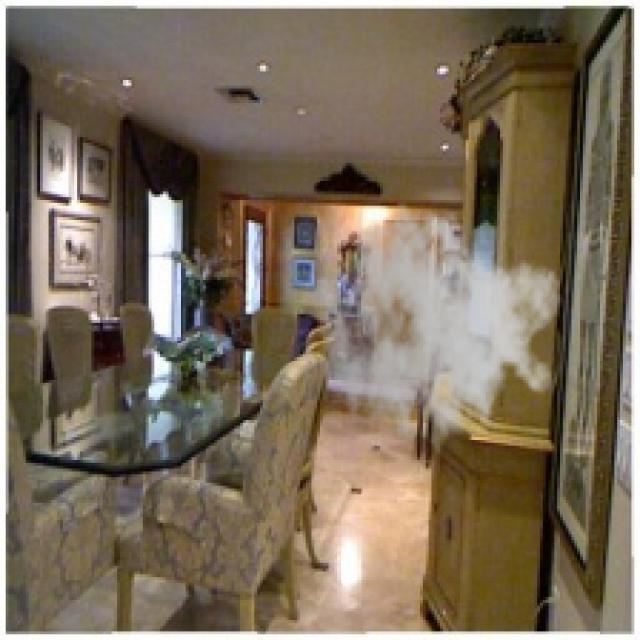smoke: (317, 200, 563, 469)
